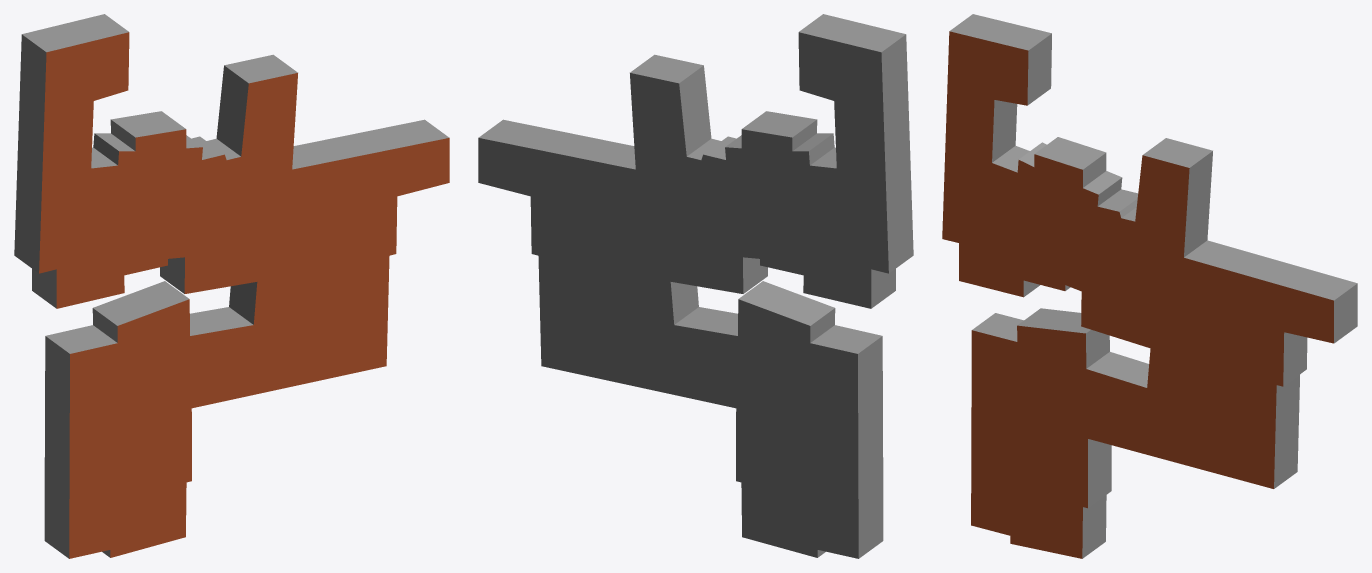
File: construction_6122_assumed_A_Casa_h6m.obj
The picture shows the model from 3 angles, left to right: view 1: azimuth 30°, elevation 25°; view 2: azimuth 150°, elevation 25°; view 3: azimuth 330°, elevation 25°; orthographic projection. The views are drawn at different scales.
Parts seen in each view (by area): view 1: construction_6122_assumed_A_Casa; view 2: construction_6122_assumed_A_Casa; view 3: construction_6122_assumed_A_Casa.
Boxes of the visible parts, box(x1,y1,x2,y2) form: construction_6122_assumed_A_Casa: box(14, 14, 449, 558); construction_6122_assumed_A_Casa: box(478, 14, 913, 558); construction_6122_assumed_A_Casa: box(942, 14, 1357, 558).
Bounding box in the file's own units: 57.45 × 69.7 × 6.
